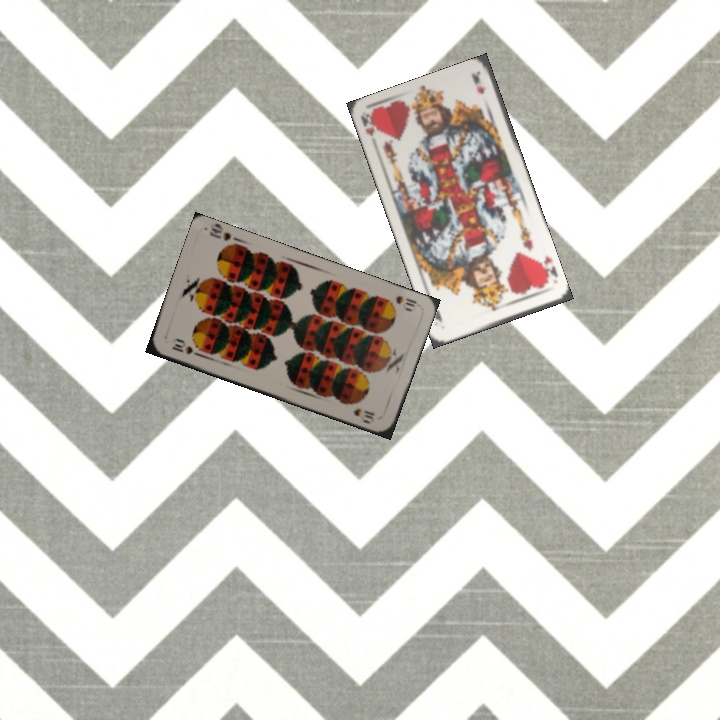HK: (534, 252, 560, 286), (357, 110, 380, 139)
S10: (168, 336, 203, 359), (391, 291, 419, 310)
